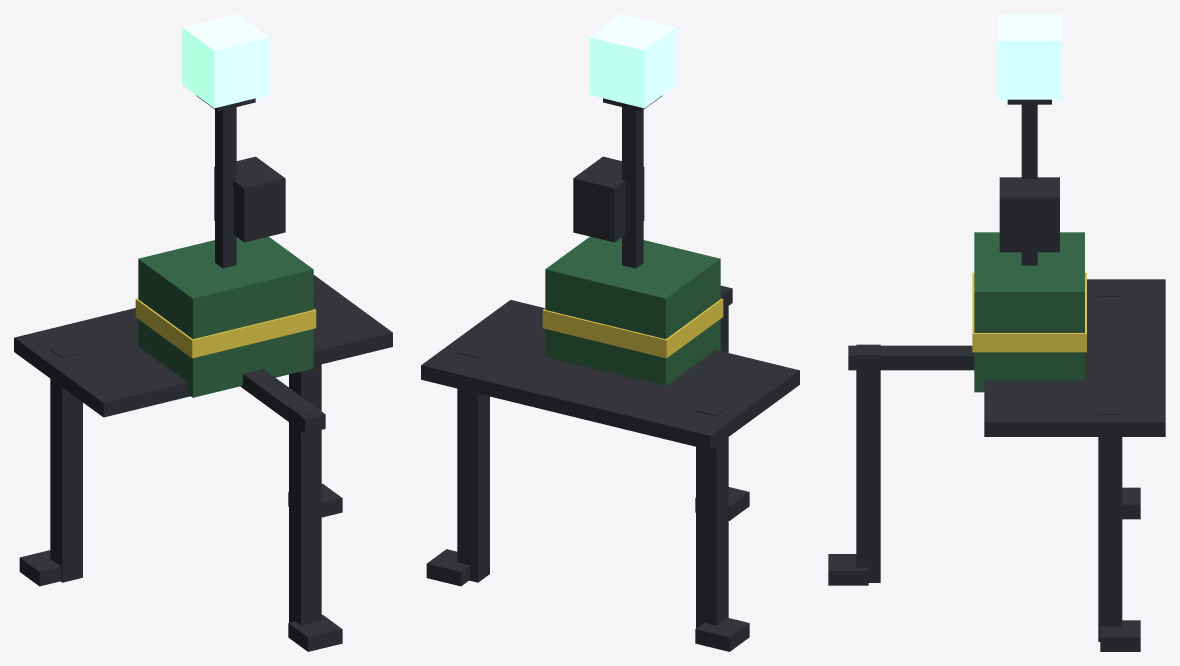
The model's file is beacon.glb.
The picture shows the model from 3 angles, left to right: view 1: azimuth 30°, elevation 25°; view 2: azimuth 150°, elevation 25°; view 3: azimuth 270°, elevation 25°; orthographic projection.
Parts seen in each view (by area): view 1: Beacon; view 2: Beacon; view 3: Beacon.
Boxes of the visible parts, bbox=[...] form: Beacon: bbox=[14, 14, 392, 651]; Beacon: bbox=[421, 14, 799, 651]; Beacon: bbox=[828, 14, 1165, 651].
Bounding box in the file's own units: 1.76 × 3.02 × 1.67.
